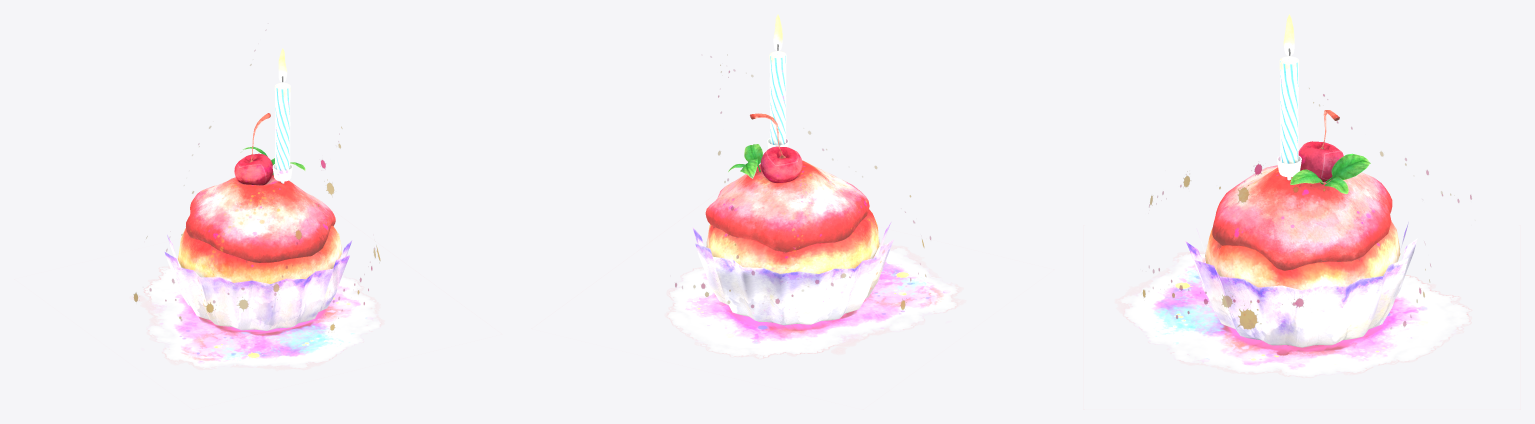
The model's file is cake2.glb.
3 views of the same model, side by side, from view 1: azimuth 30°, elevation 25°; view 2: azimuth 150°, elevation 25°; view 3: azimuth 270°, elevation 25° (orthographic). The views are drawn at different scales.
Parts seen in each view (by area): view 1: Cake_0, Ground_1, FX_2; view 2: Cake_0, Ground_1; view 3: Cake_0, Ground_1, FX_2.
Boxes of the visible parts, x1=… form: Cake_0: x1=164, y1=48, x2=352, y2=330; Ground_1: x1=138, y1=259, x2=381, y2=368; FX_2: x1=133, y1=50, x2=380, y2=330; Cake_0: x1=692, y1=14, x2=893, y2=325; Ground_1: x1=667, y1=245, x2=960, y2=358; Cake_0: x1=1185, y1=14, x2=1417, y2=347; Ground_1: x1=1118, y1=252, x2=1470, y2=377; FX_2: x1=1143, y1=88, x2=1471, y2=329.
Size of the model in its own units: 0.2593 by 0.2066 by 0.2593.
Materials: 3 (3 with a texture image).
